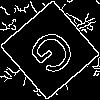G: (25, 25, 86, 87)
